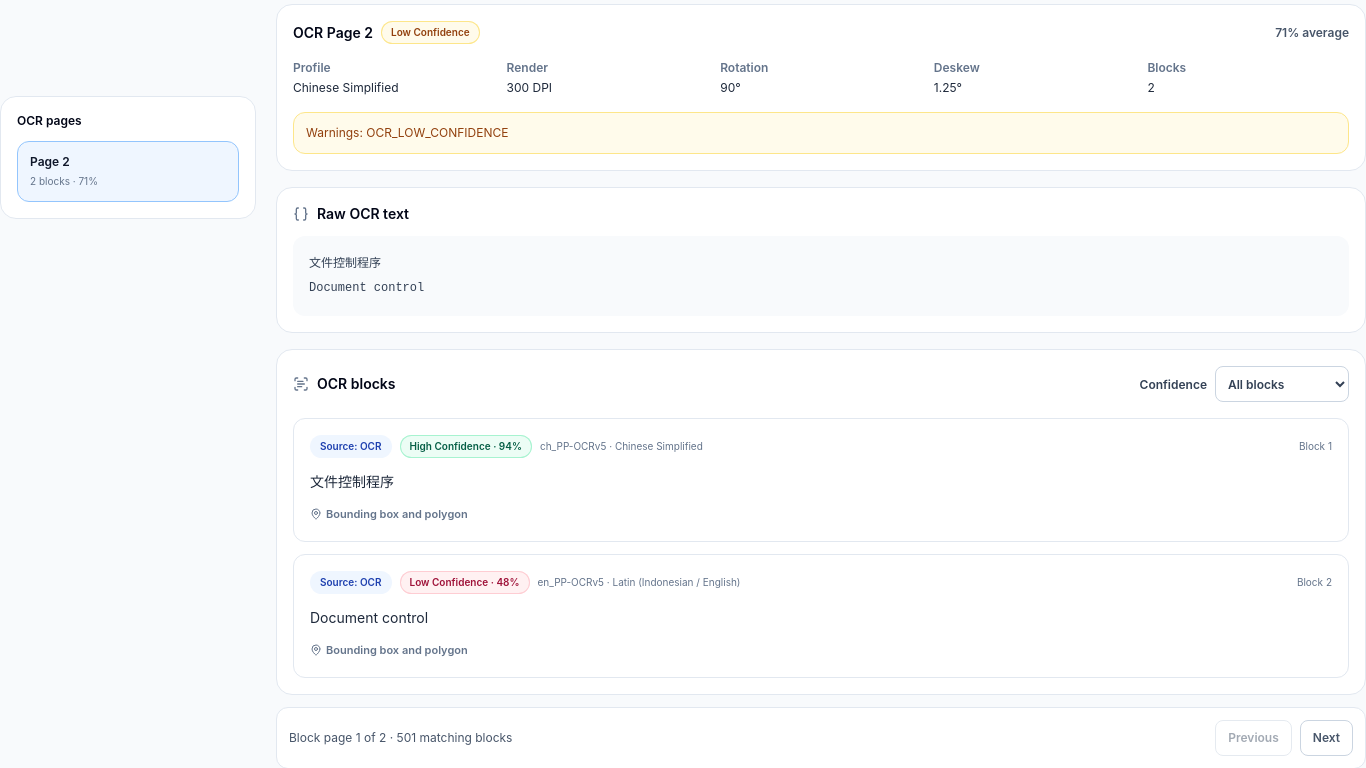
OCRResultPage block filters › sends exact server confidence bounds and preserves them across block pages
The image size is (1366, 768).
(page scrolled)
Step 1. Select "High confidence" in the dropdown named "OCR confidence" → (1282, 384), box [1215,366,1349,402]
(page scrolled)
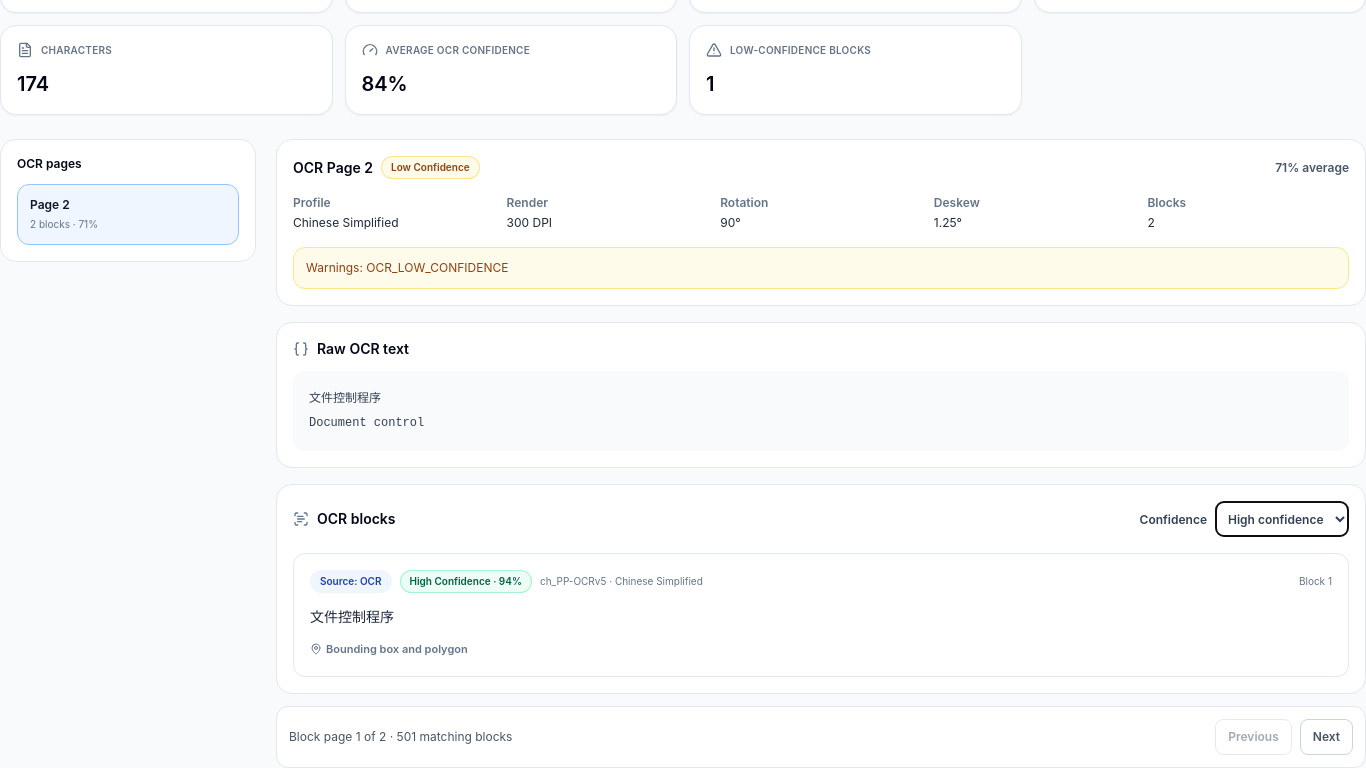
Step 2. Select "Low confidence" in the dropdown named "OCR confidence" → (1282, 519), box [1215,501,1349,537]
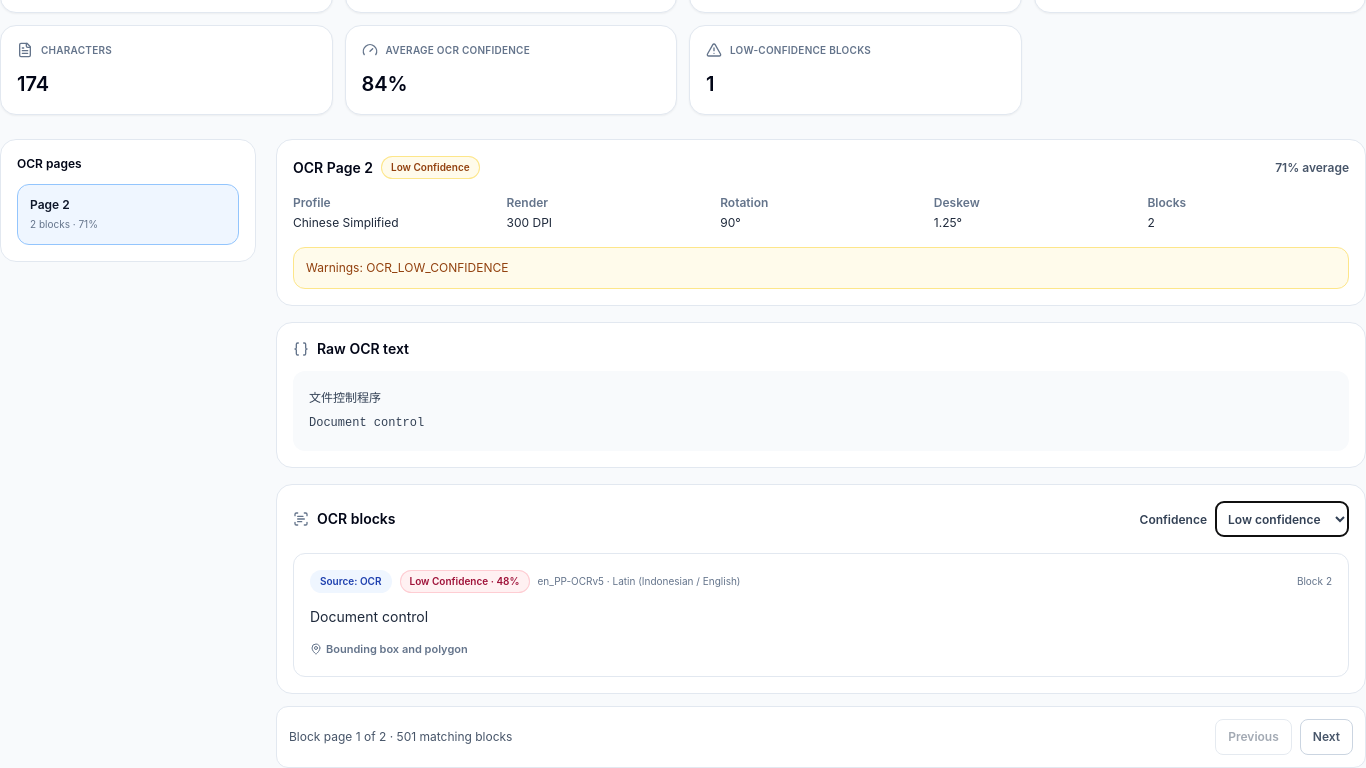
Step 3. Select "Needs review" in the dropdown named "OCR confidence" → (1282, 519), box [1215,501,1349,537]
(page scrolled)
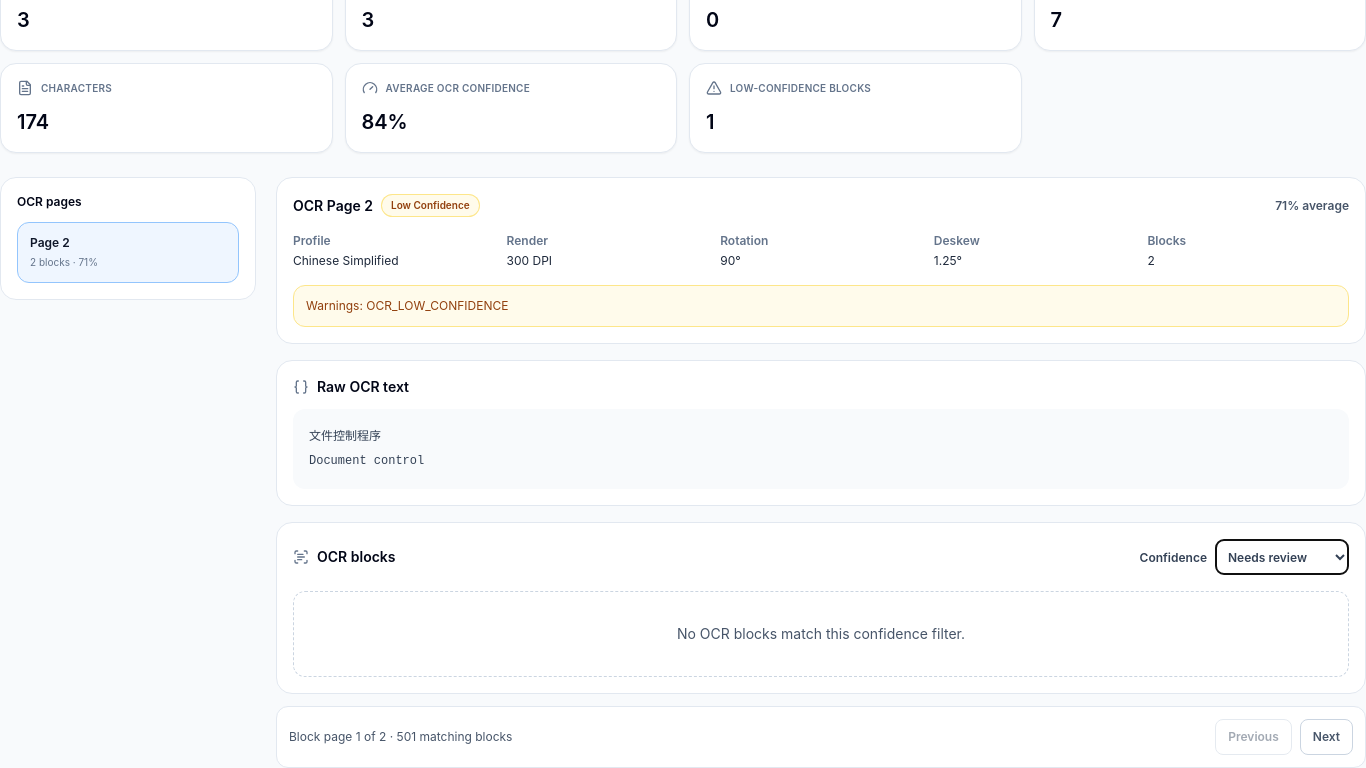
Step 4. Click the button "Next" → click(1326, 737), box [1300,719,1353,755]
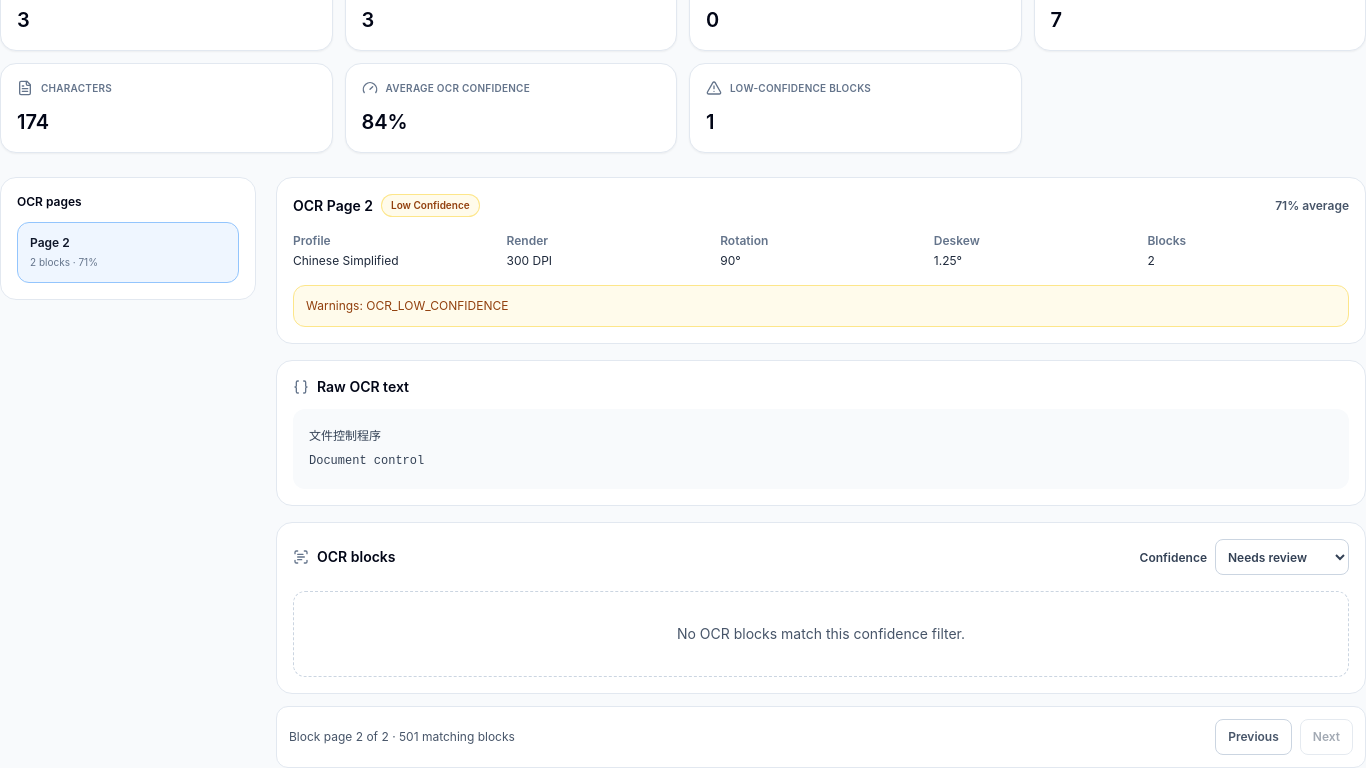
Expected: the text "Block page 2 of 2 · 501 matching blocks" is shown, [289,729,515,745]
